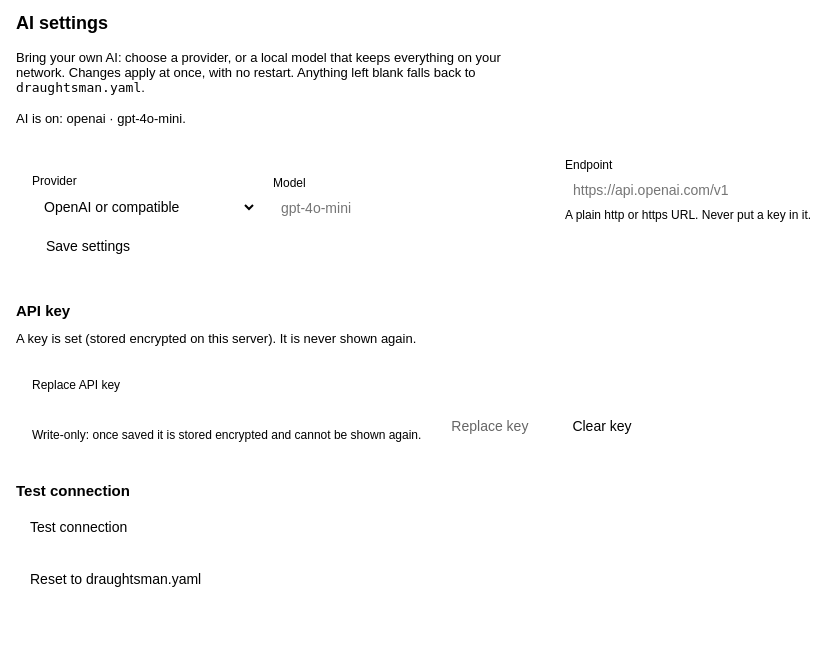
AiSettingsPage › shows a failed connection test as an alert without any key text
Click the button "Test connection". click: (79,527)
box: [16,511,141,543]
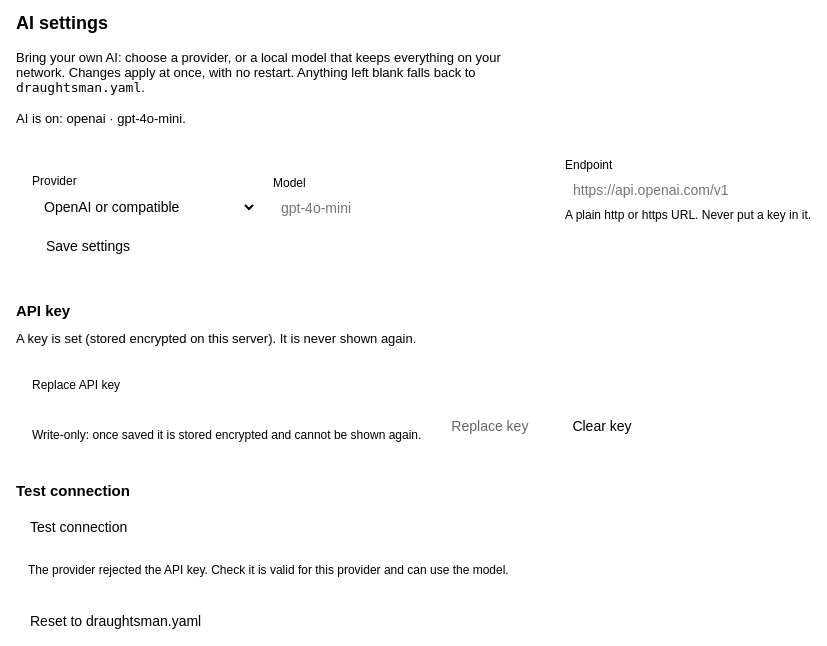
Now the message shows "rejected the API key", box [28,563,509,577]
